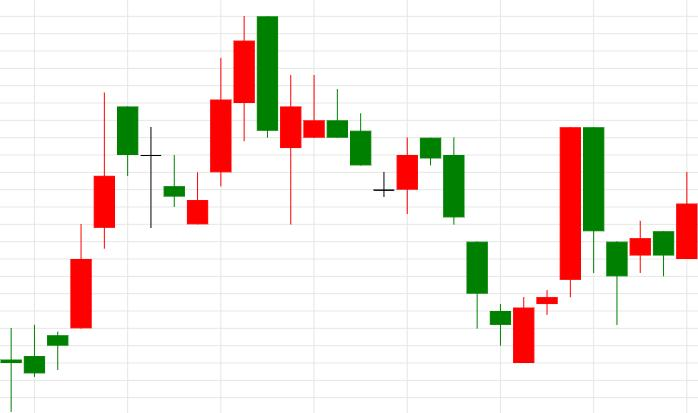three_black_crows_fall: (373, 137, 488, 329)
three_white_soldiers_rise: (116, 16, 256, 228)
